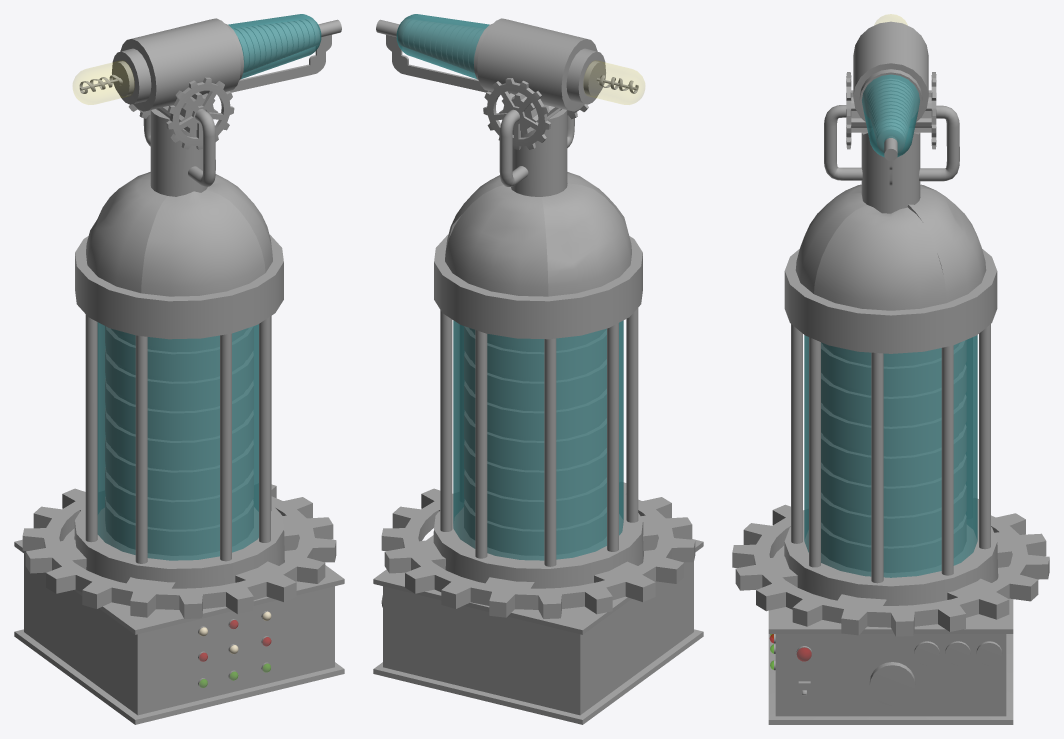
The model's file is FBX_Tour01_LP.fbx.
3 views of the same model, side by side, from view 1: azimuth 30°, elevation 25°; view 2: azimuth 150°, elevation 25°; view 3: azimuth 270°, elevation 25° (orthographic).
Parts seen in each view (by area): view 1: pCylinder216, pCylinder201, polySurface36, pCylinder186; view 2: pCylinder216, pCylinder201, polySurface36, pCylinder186; view 3: pCylinder216, pCylinder201, polySurface36, pCylinder186.
Boxes of the visible parts, x1,y1,x2,y2 form: pCylinder216: [74, 172, 284, 588]; pCylinder201: [14, 528, 344, 724]; polySurface36: [73, 14, 341, 196]; pCylinder186: [22, 484, 336, 618]; pCylinder216: [433, 172, 643, 588]; pCylinder201: [373, 535, 703, 724]; polySurface36: [376, 14, 644, 196]; pCylinder186: [381, 482, 695, 618]; pCylinder216: [784, 184, 998, 605]; pCylinder201: [768, 545, 1013, 724]; polySurface36: [824, 14, 959, 213]; pCylinder186: [732, 499, 1049, 636].
Size of the model in its own units: 2.79 by 5.63 by 2.57.
